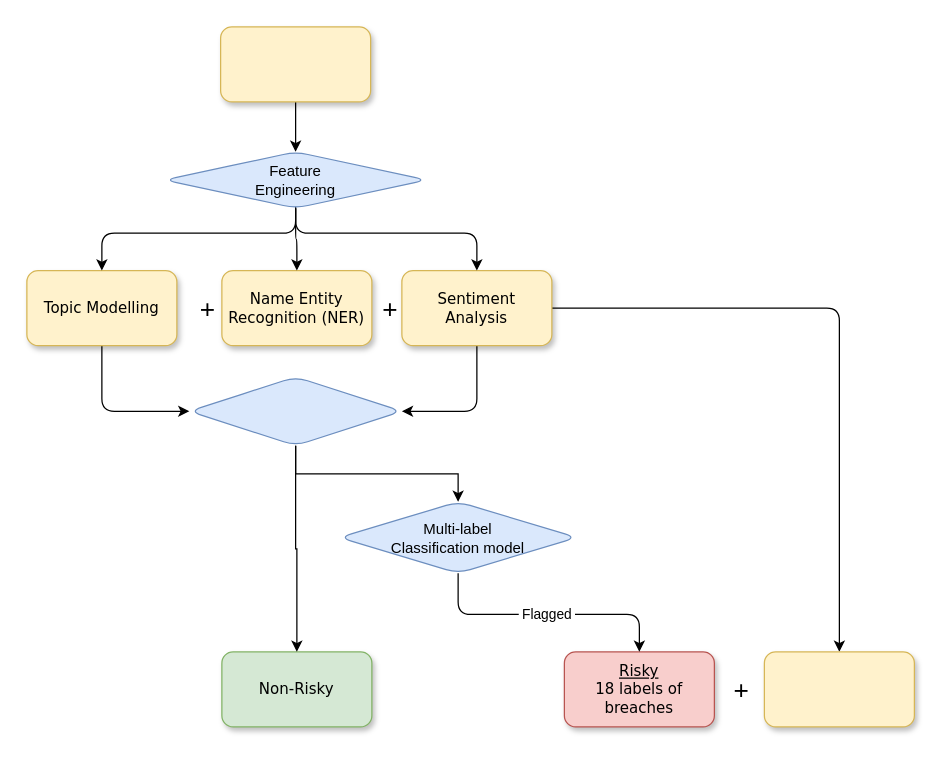
Image size: 944x758. Some labels were removed from this diagram. Each missing label, with the centre of its shape:
"Reason for breach: Topic / Sentence" belongs at point (840, 691).
"Rule-based Classification" belongs at point (295, 411).
"Text Cleaning" belongs at point (296, 66).
